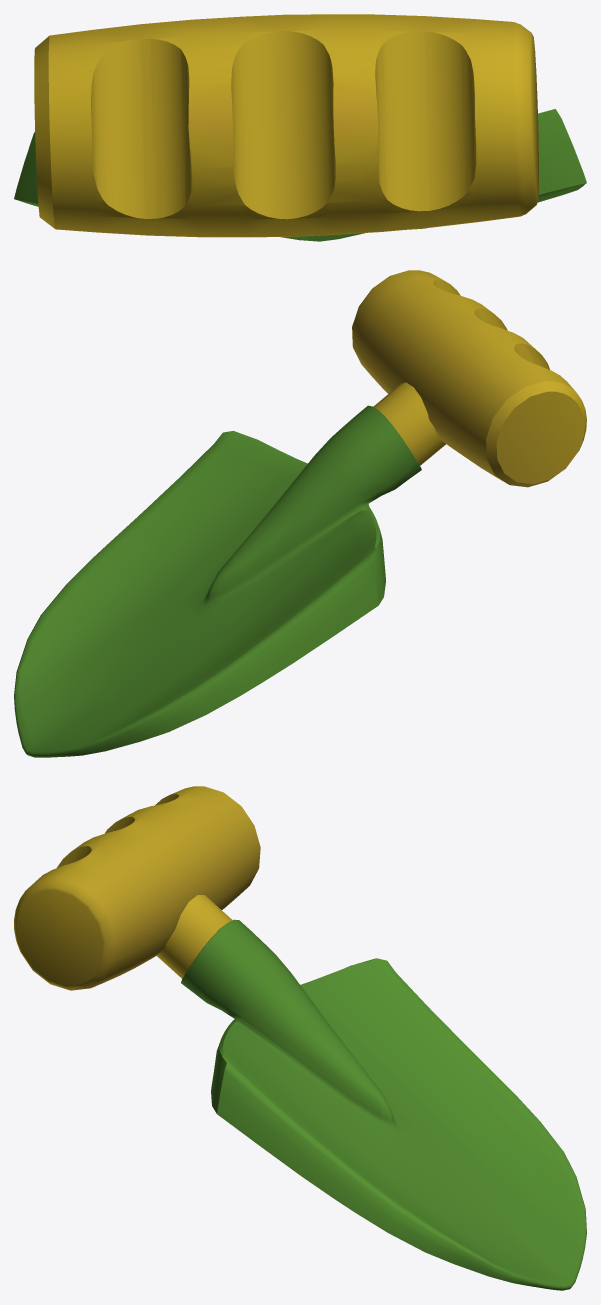
The model's file is Trowel.fbx.
3 renders of one model, top to bottom at view 1: azimuth 30°, elevation 25°; view 2: azimuth 150°, elevation 25°; view 3: azimuth 270°, elevation 25°, orthographic. The views are drawn at different scales.
Visible parts, largest first — view 1: Trowel; view 2: Trowel; view 3: Trowel.
Part boxes in pixels (bbox=[...]): Trowel: bbox=[14, 14, 586, 241]; Trowel: bbox=[14, 270, 586, 757]; Trowel: bbox=[14, 786, 586, 1290].
Bounding box in the file's own units: 12.09 × 9.36 × 13.99.
